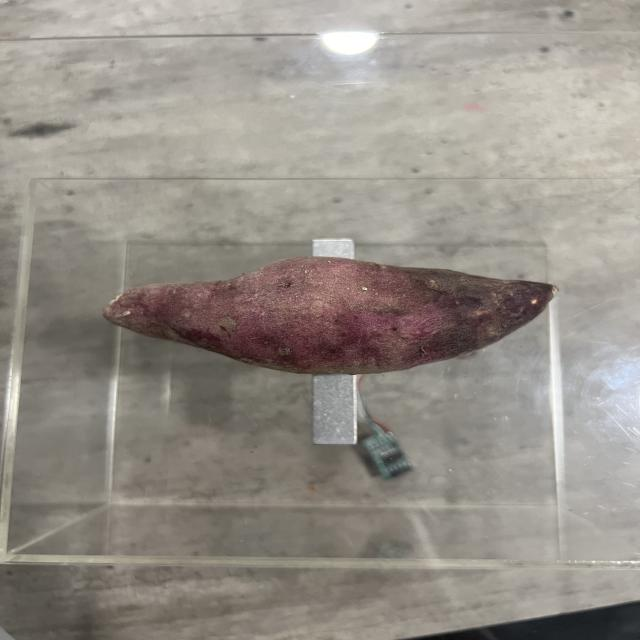sweet potato: (107, 252, 560, 376)
